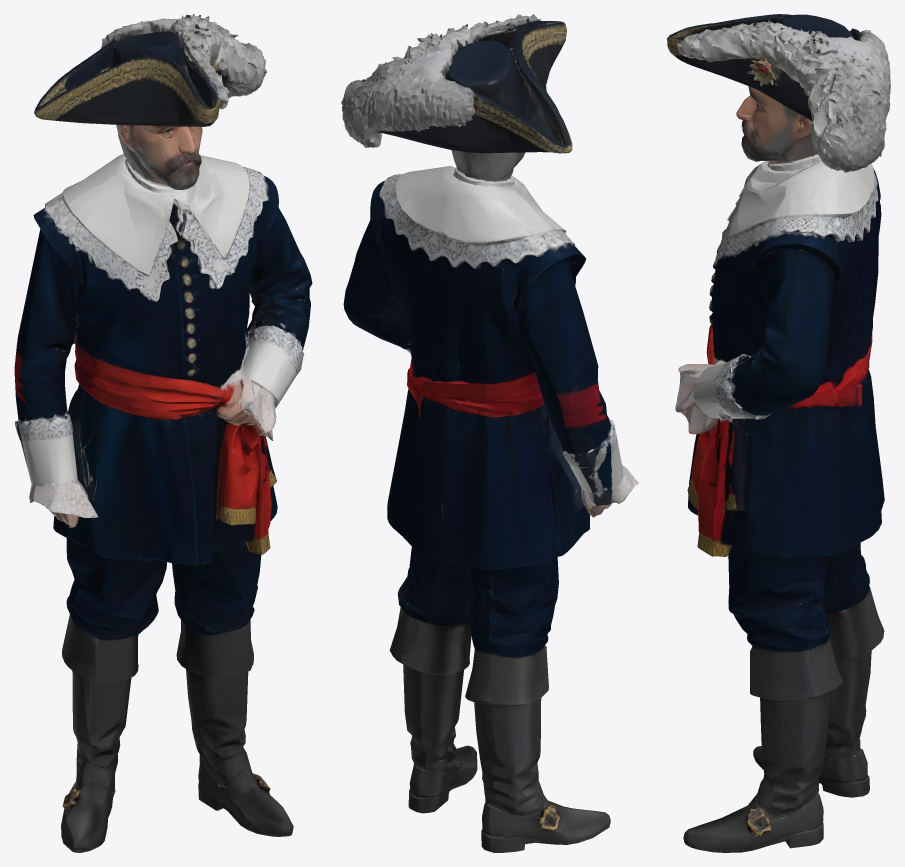
File: musketeer__musketeer-attire.glb
The picture shows the model from 3 angles, left to right: view 1: azimuth 30°, elevation 25°; view 2: azimuth 150°, elevation 25°; view 3: azimuth 270°, elevation 25°; orthographic projection. The views are drawn at different scales.
Size of the model in its own units: 0.7411 by 2 by 0.5083.
1 material, 1 textured.
